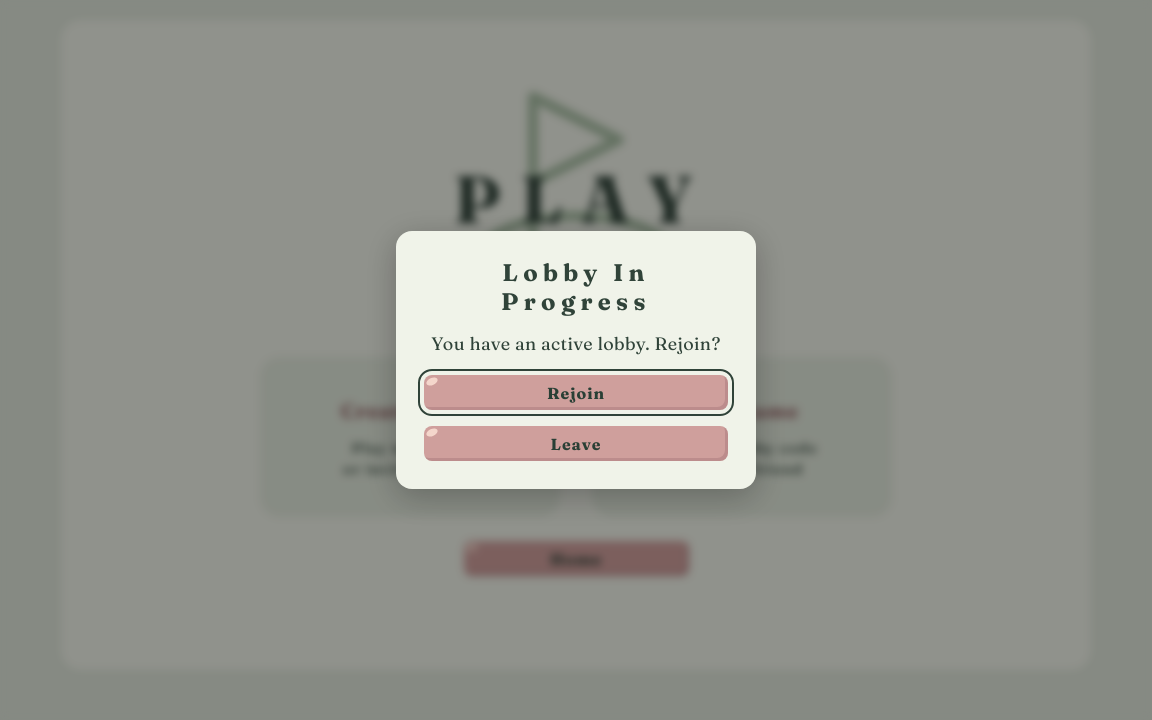
Test case: leaves a waiting lobby without a loss or bot warning
expect the dialog is shown: met, box [396,231,756,489]
Click the button "Leave": {"x": 576, "y": 444} [424,426,728,461]
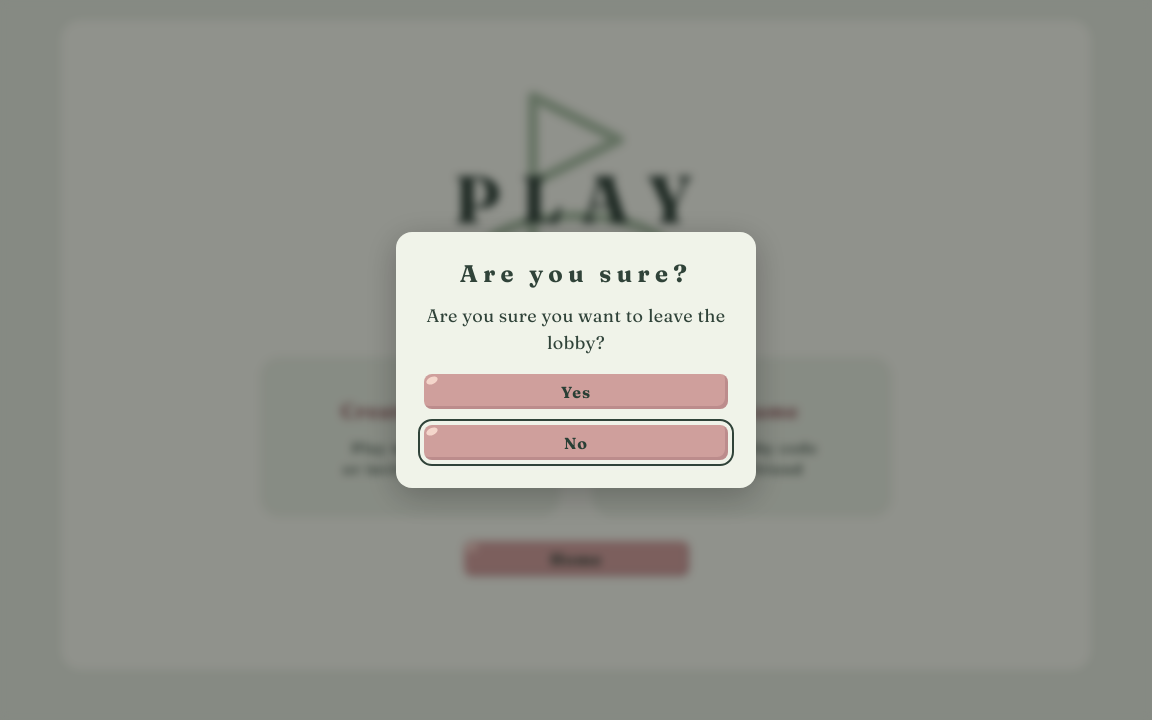
expect the dialog shows "leave the lobby": met, box [426,304,726,354]
Click the button "Yes": {"x": 576, "y": 392} [424,374,728,409]
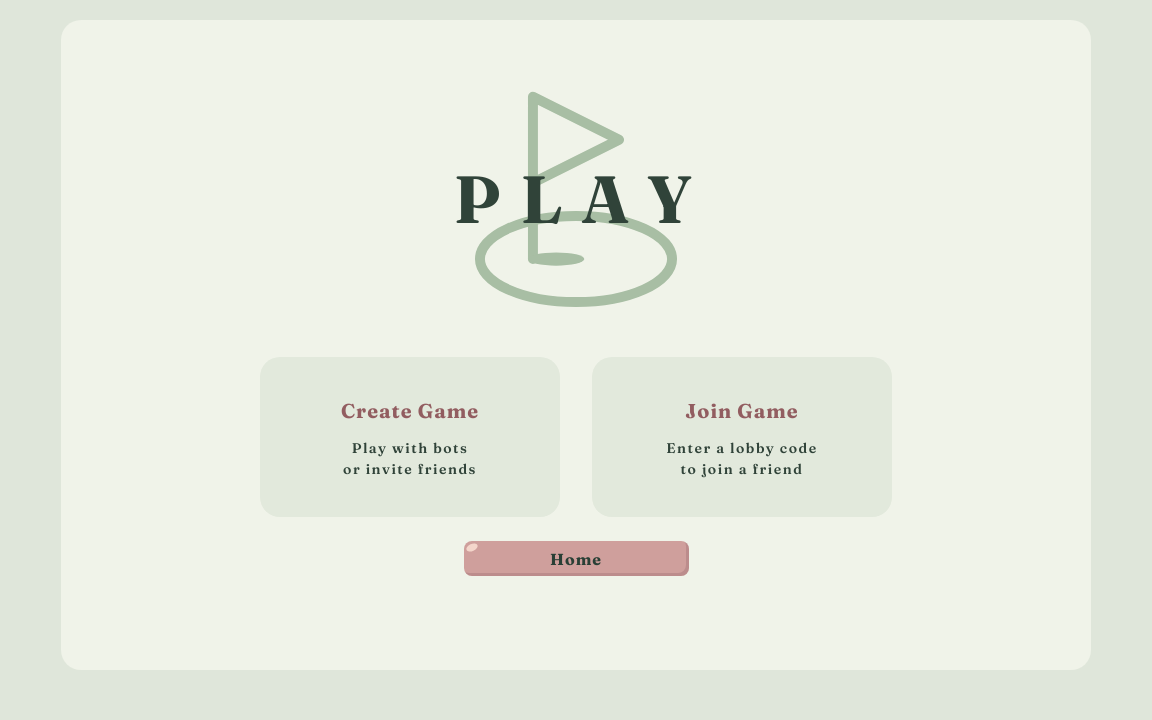
expect the dialog is gone: met
